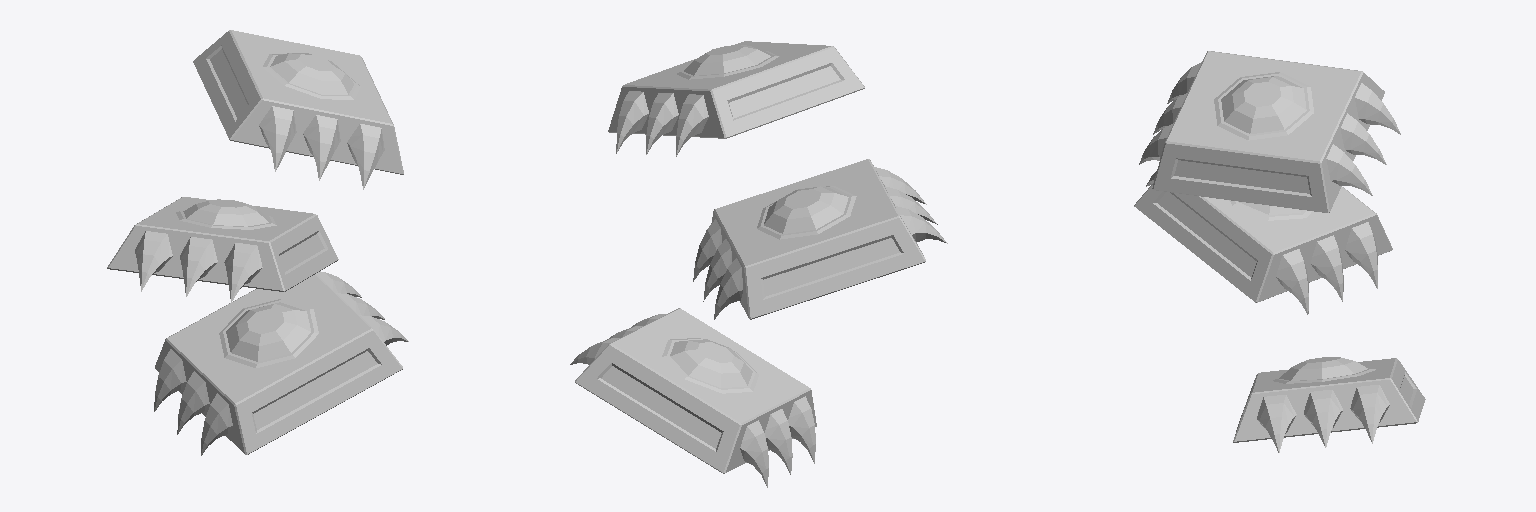
File: Inhalable.obj
3 renders of one model, left to right at view 1: azimuth 30°, elevation 25°; view 2: azimuth 150°, elevation 25°; view 3: azimuth 270°, elevation 25°, orthographic.
Parts seen in each view (by area): view 1: Cube_Cube.001; view 2: Cube_Cube.001; view 3: Cube_Cube.001.
Part boxes in pixels (left/top/right/bottom): Cube_Cube.001: left=107, top=30, right=408, bottom=455; Cube_Cube.001: left=570, top=41, right=947, bottom=487; Cube_Cube.001: left=1134, top=51, right=1425, bottom=452.
Bounding box in the file's own units: 1.5 × 1.8 × 1.24.